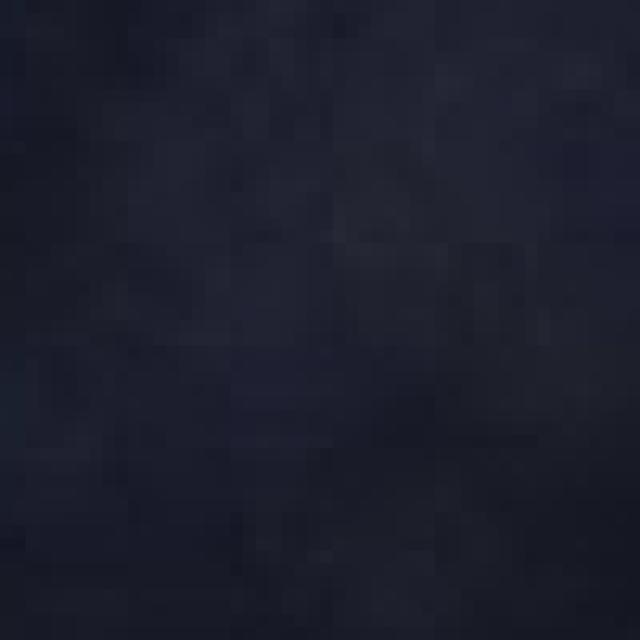fire: (30, 36, 640, 601)
